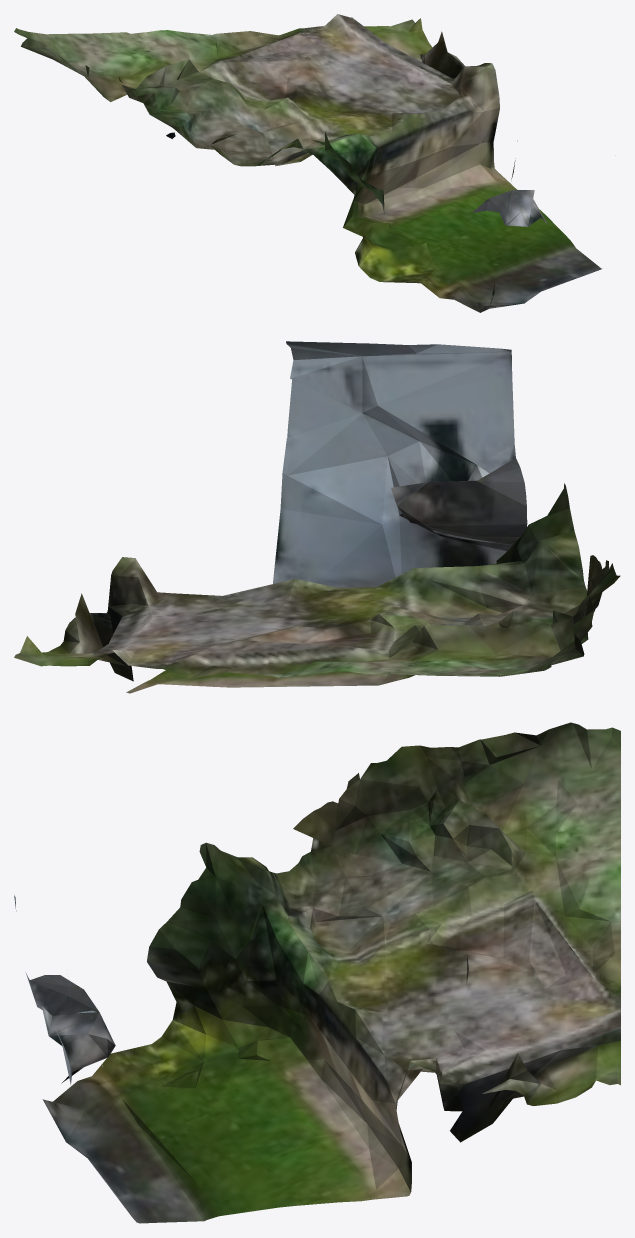
The picture shows the model from 3 angles, top to bottom: view 1: azimuth 30°, elevation 25°; view 2: azimuth 150°, elevation 25°; view 3: azimuth 270°, elevation 25°; orthographic projection. The views are drawn at different scales.
Size of the model in its own units: 14.93 by 6.89 by 15.19.
1 material, 1 textured.
